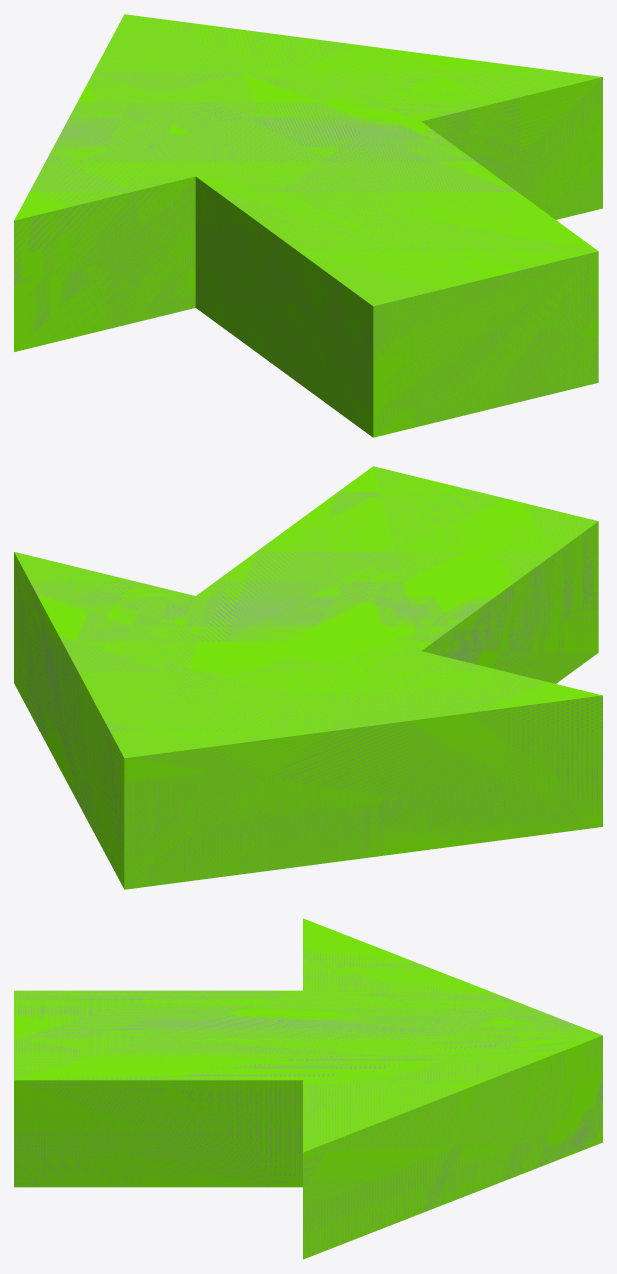
The model's file is Arraw.fbx.
3 renders of one model, top to bottom at view 1: azimuth 30°, elevation 25°; view 2: azimuth 150°, elevation 25°; view 3: azimuth 270°, elevation 25°, orthographic. The views are drawn at different scales.
Parts seen in each view (by area): view 1: Untitled__2_1; view 2: Untitled__2_1; view 3: Untitled__2_1.
Boxes of the visible parts, left/top/right/bottom form: Untitled__2_1: left=14, top=14, right=602, bottom=437; Untitled__2_1: left=14, top=466, right=602, bottom=889; Untitled__2_1: left=14, top=918, right=602, bottom=1259.
Bounding box in the file's own units: 3.93 × 0.8382 × 4.18.
